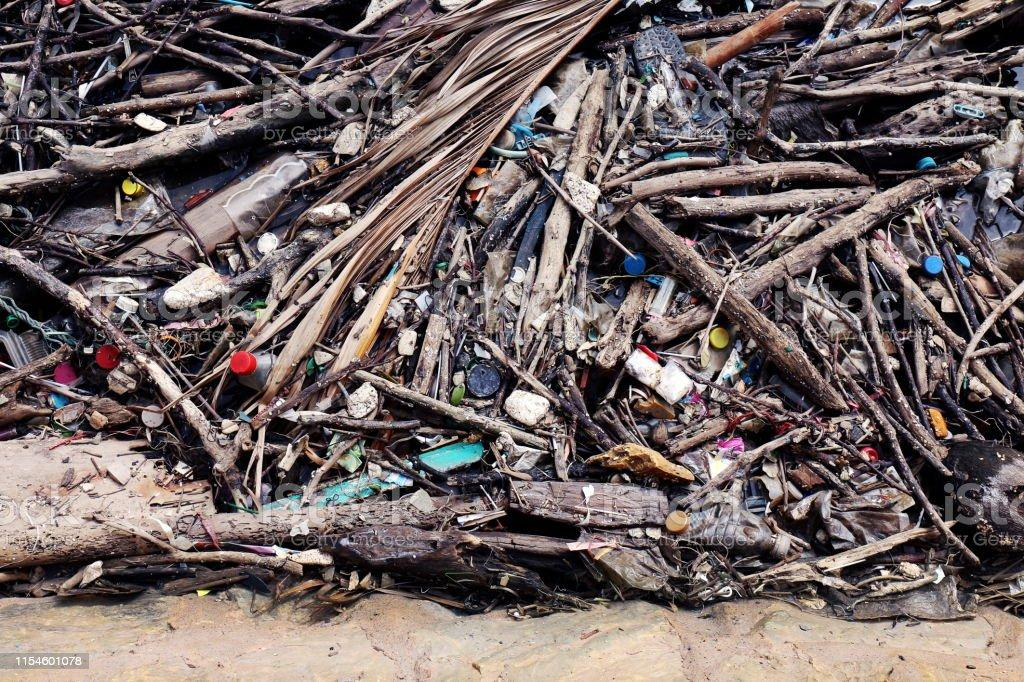Plastic: (223, 346, 277, 389)
